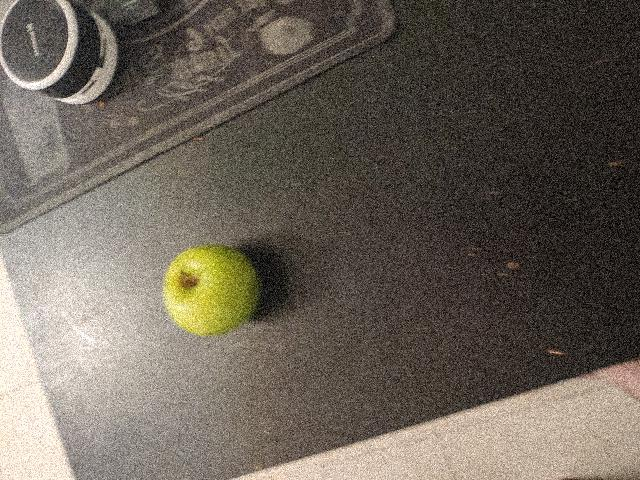apple: (136, 150, 242, 275)
